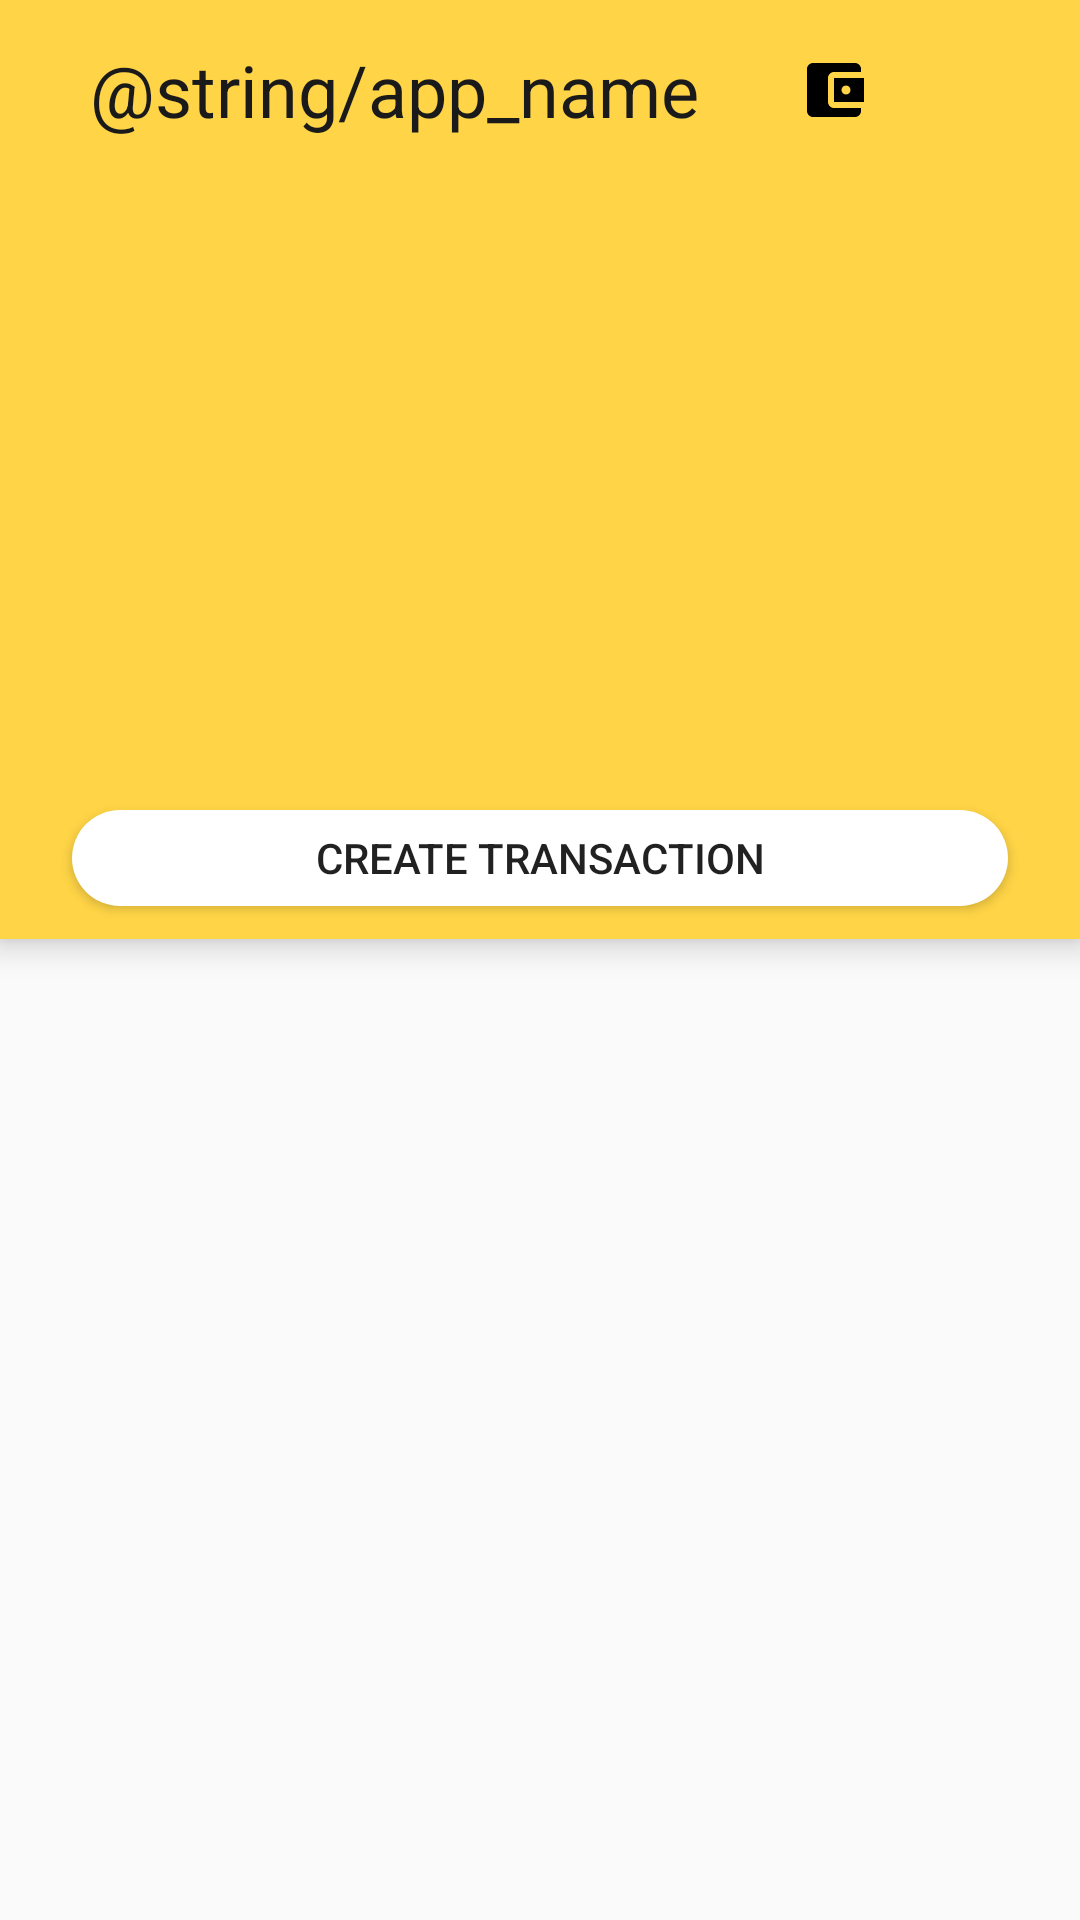

Named icons in this screenshot (1080 x 1920) and their bounding boxes, (x1, y1, x2, y2):
account balance wallet: (807, 63, 864, 117)
